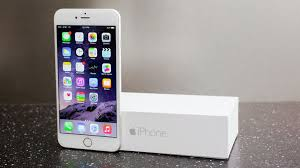iphone: (50, 5, 126, 151)
iphone6: (50, 5, 126, 151)
